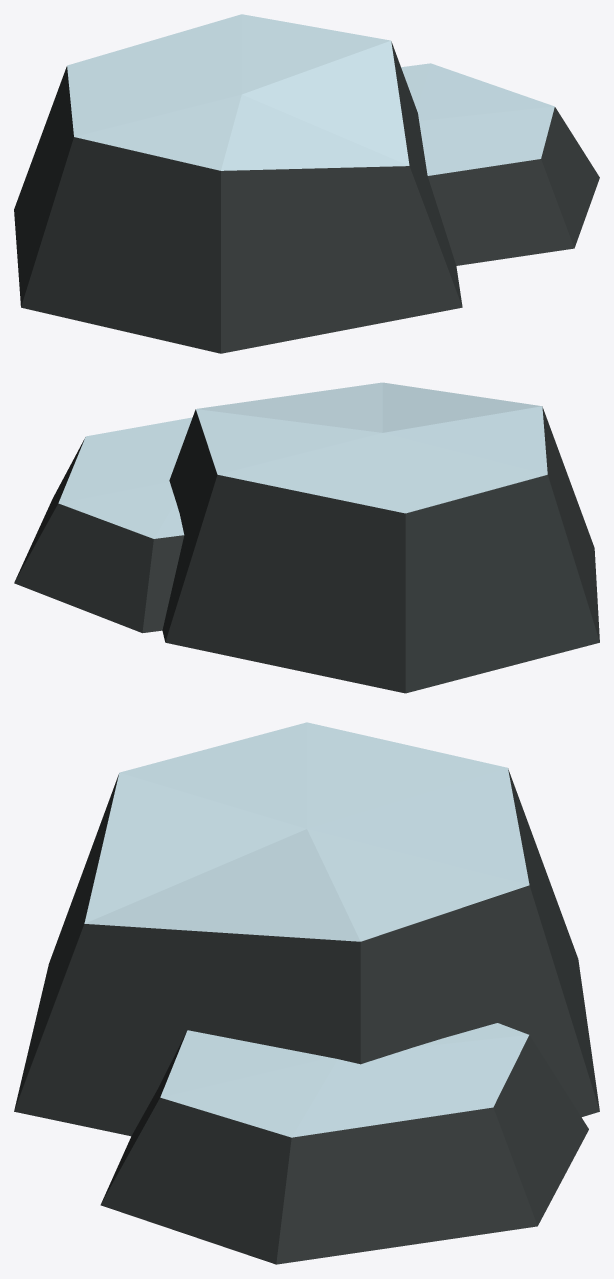
File: SM_Env_Generic_Rock_07_Snow.fbx
The picture shows the model from 3 angles, top to bottom: view 1: azimuth 30°, elevation 25°; view 2: azimuth 150°, elevation 25°; view 3: azimuth 270°, elevation 25°; orthographic projection. The views are drawn at different scales.
Parts seen in each view (by area): view 1: SM_Env_Generic_Rock_07_Snow; view 2: SM_Env_Generic_Rock_07_Snow; view 3: SM_Env_Generic_Rock_07_Snow.
Part boxes in pixels (bbox=[...]): SM_Env_Generic_Rock_07_Snow: bbox=[14, 14, 599, 353]; SM_Env_Generic_Rock_07_Snow: bbox=[14, 382, 599, 693]; SM_Env_Generic_Rock_07_Snow: bbox=[14, 722, 599, 1264].
Size of the model in its own units: 52.08 by 16.77 by 35.1.
1 material, 1 textured.
